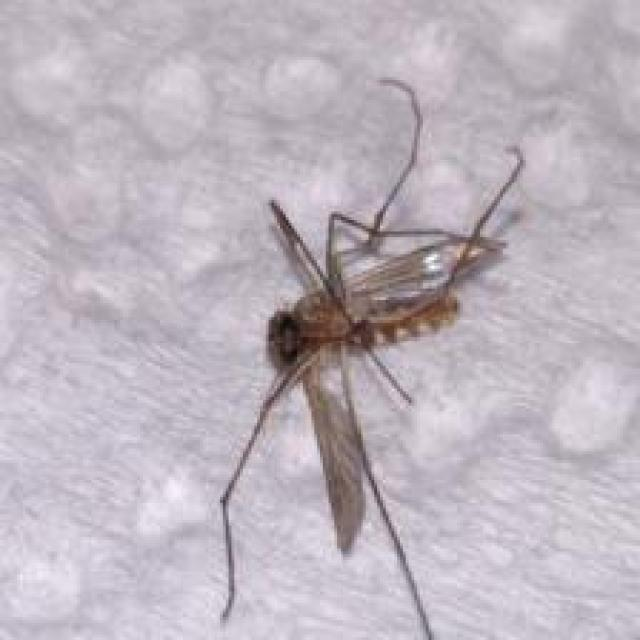Culex: (214, 74, 526, 640)
